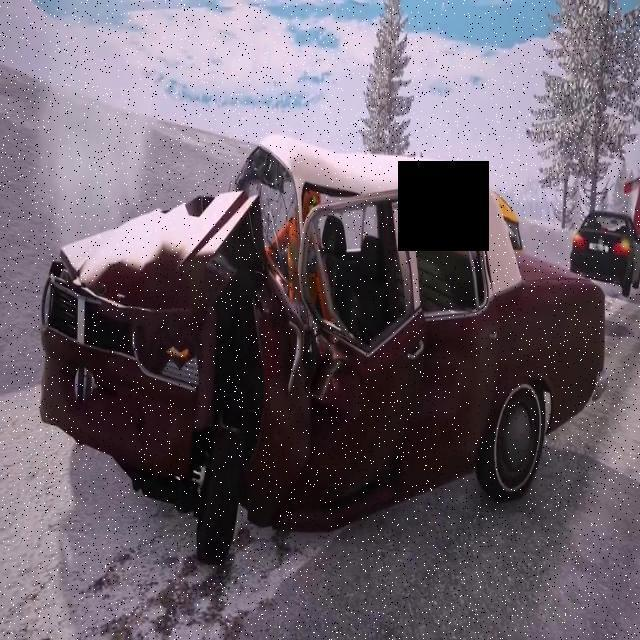vehicle: (32, 134, 598, 528)
